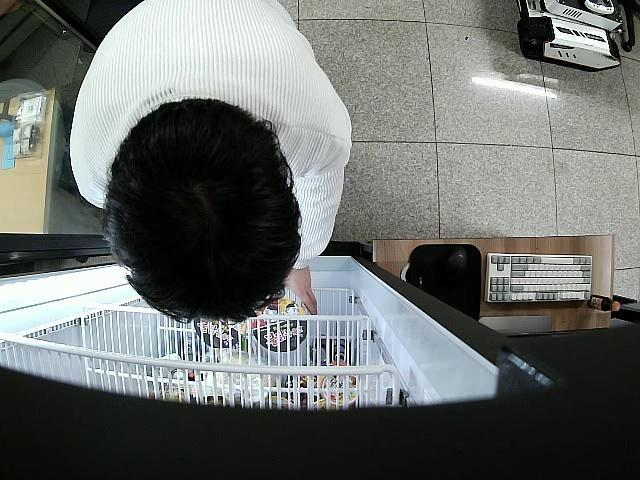07_buldak_L: (252, 298, 308, 352)
